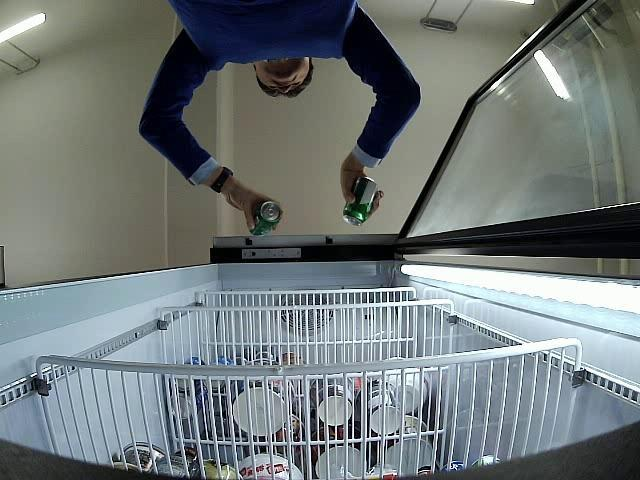12_chilsungCider: (343, 178, 377, 228), (250, 200, 282, 236)
